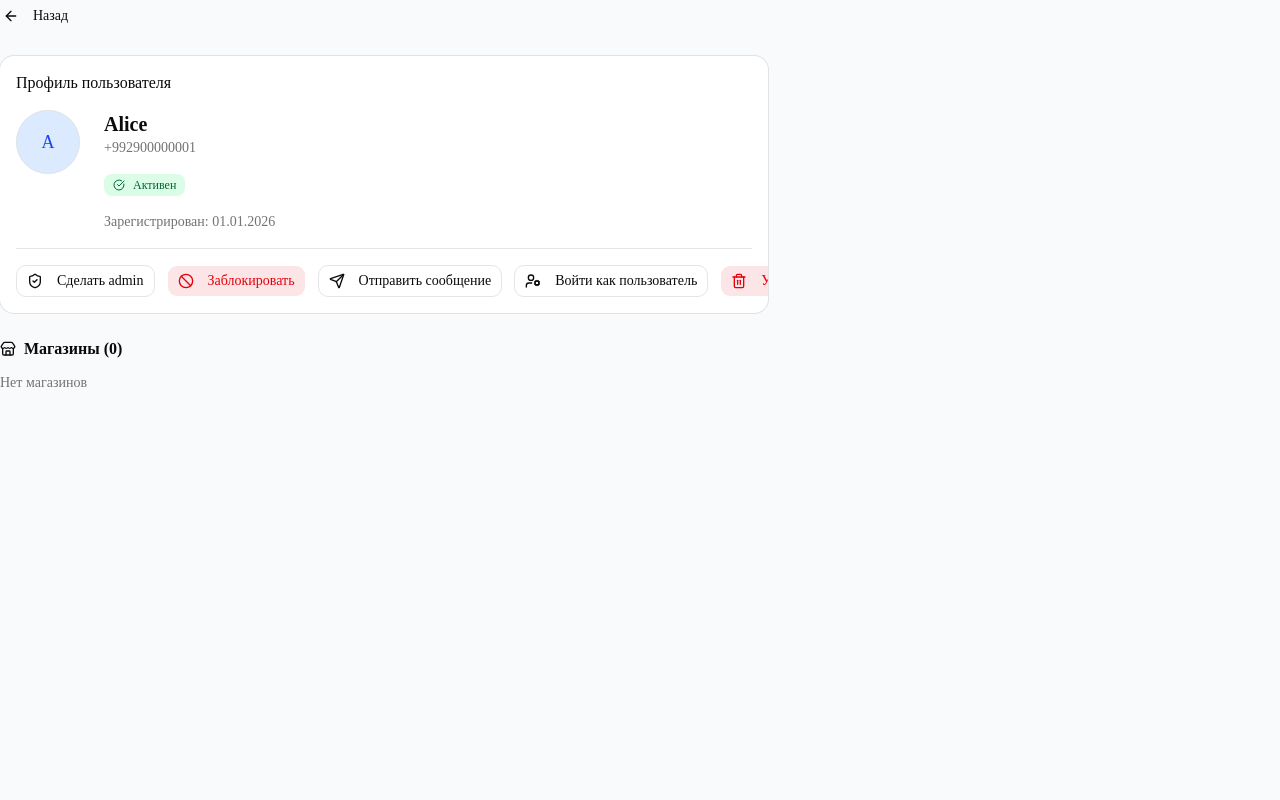
Test: UserDetailPage — impersonation flow › clicking "Войти как пользователь" POSTs /admin/users/:id/impersonate and opens the waiting dialog
Expected: the heading "Alice" is shown, [104,113,147,135]
Click the button "Войти как пользователь": [611, 281] box [514,265,708,297]
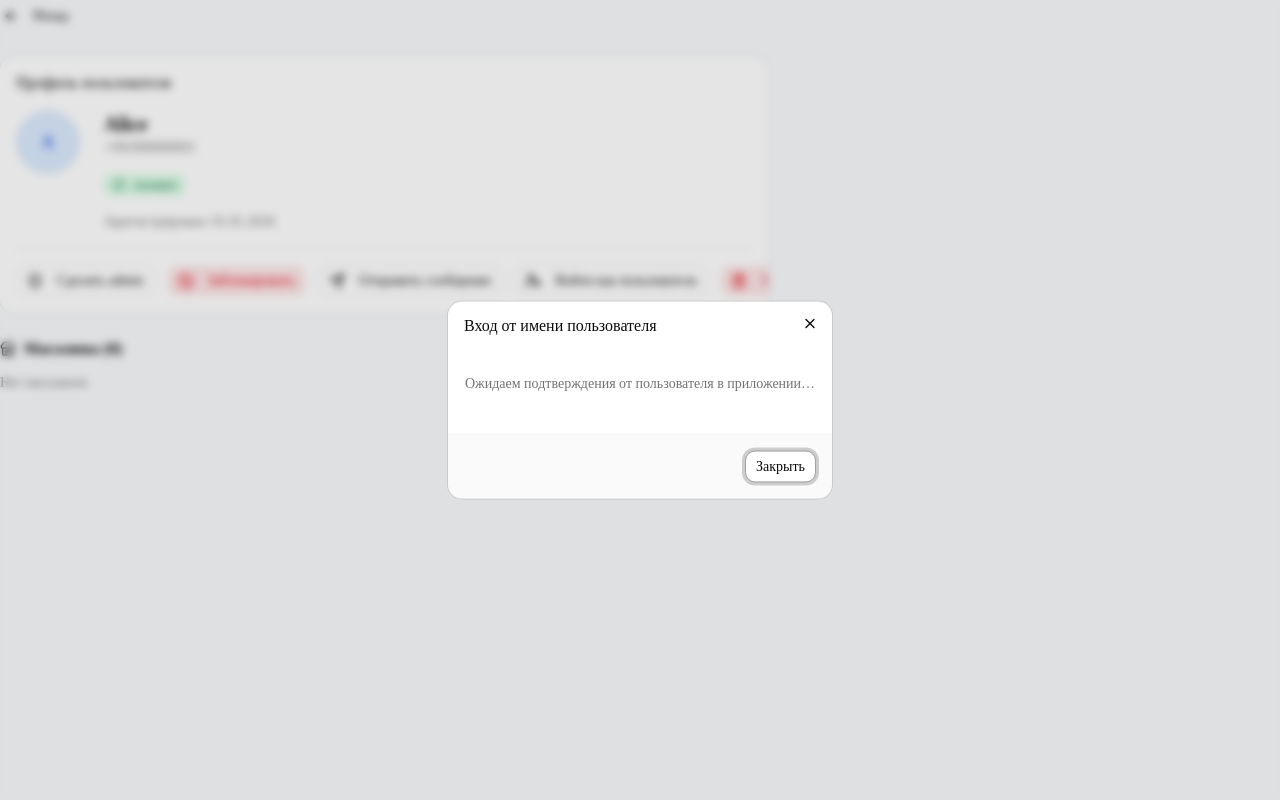
Expected: the heading "Вход от имени пользователя" is shown, [464,316,657,334]
Expected: the text "Ожидаем подтверждения от пользователя в приложении…" is shown, [464,374,816,394]
